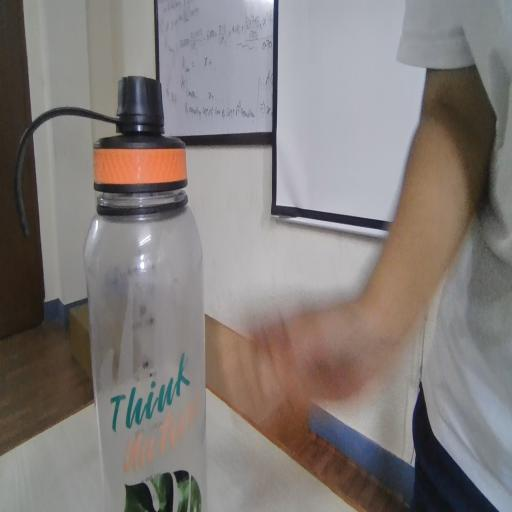Bottle: (65, 77, 223, 469)
